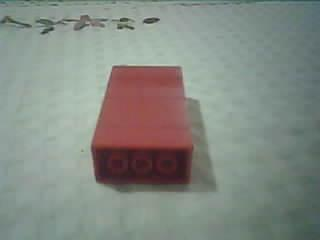lego: (90, 64, 195, 186)
